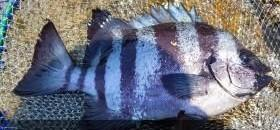fish: (10, 0, 274, 129)
